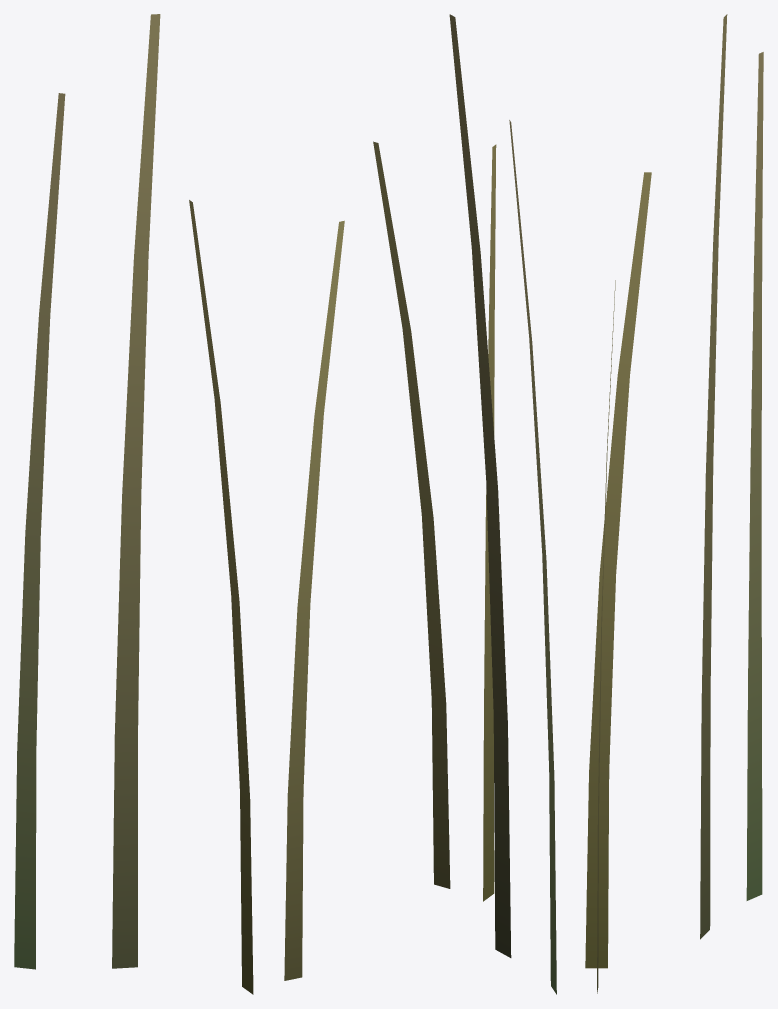
File: env_grass_sparse_dry_01.glb
3 renders of one model, left to right at view 1: azimuth 30°, elevation 25°; view 2: azimuth 150°, elevation 25°; view 3: azimuth 270°, elevation 25°, orthographic.
Visible parts, largest first — view 1: grass_sparse_dry; view 2: grass_sparse_dry; view 3: grass_sparse_dry.
Boxes of the visible parts, x1,y1,x2,y2 form: grass_sparse_dry: (14,14,344,994); grass_sparse_dry: (373,14,556,994); grass_sparse_dry: (585,14,763,993).
Bounding box in the file's own units: 0.1013 × 0.3522 × 0.0606.
